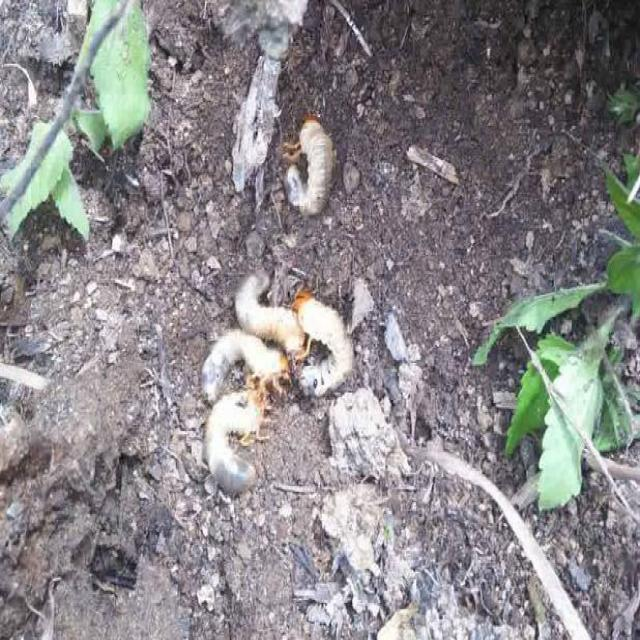Grub-Adult-: (290, 280, 364, 407), (197, 388, 277, 498), (230, 252, 305, 360), (192, 319, 281, 405), (276, 104, 336, 222)
